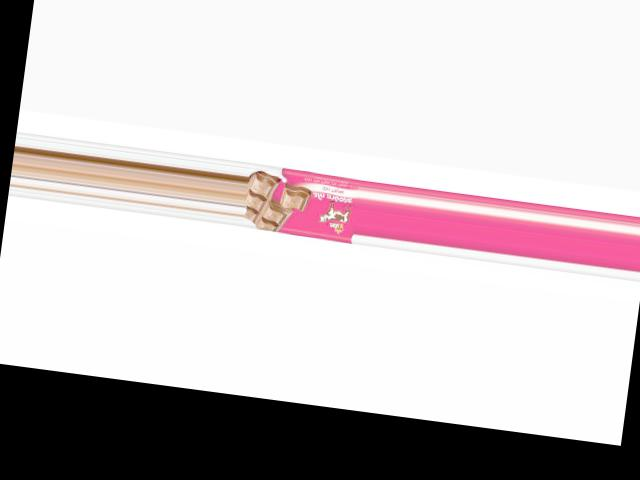chocolate: (242, 162, 362, 241)
